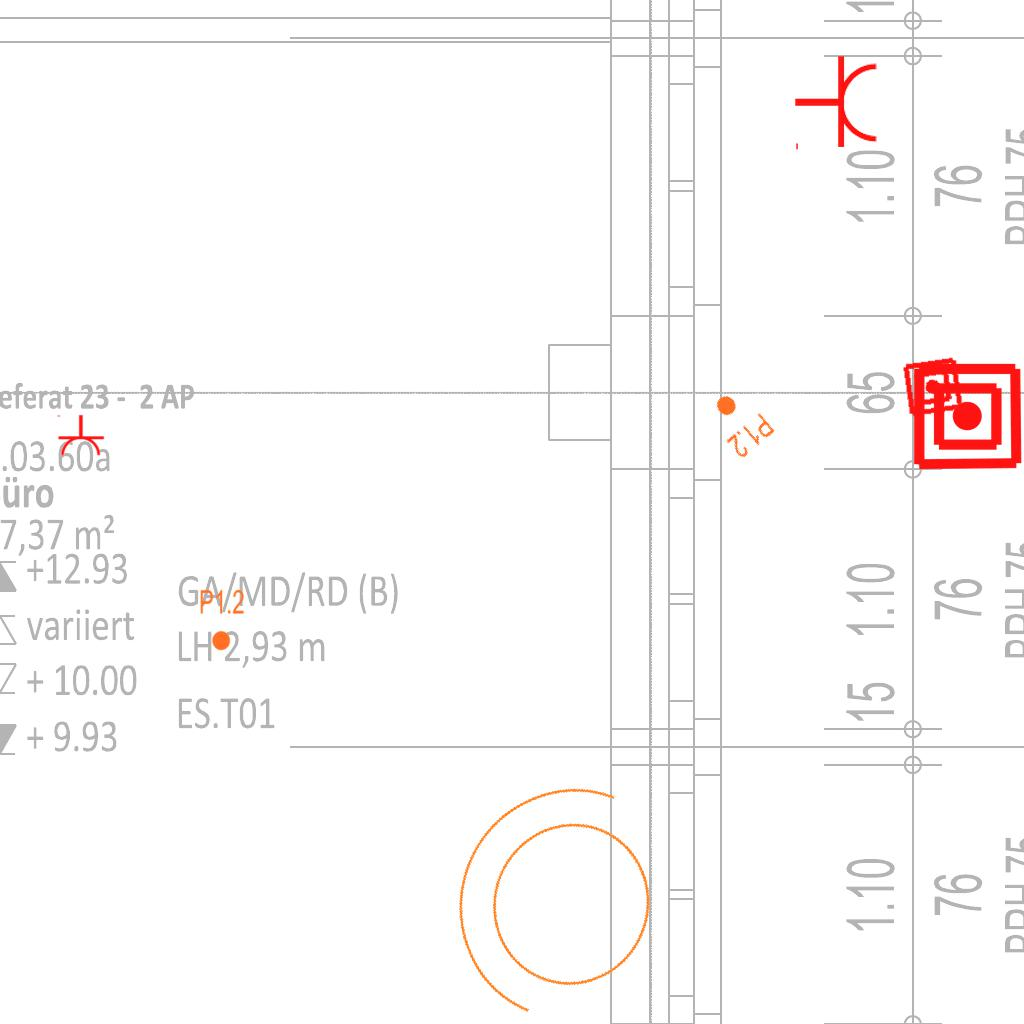Downlight_LED_Einbauleuchten_Flur: (700, 382, 778, 462), (199, 588, 245, 652)
NAM-Nichtautomatischer_Melder: (911, 360, 1024, 473), (901, 355, 965, 419)
Scheinwerfer_fuer_Alarmbeleuchtung: (406, 741, 714, 1024)
Schukosteckdose_einfach: (793, 54, 880, 154), (55, 414, 105, 457)
